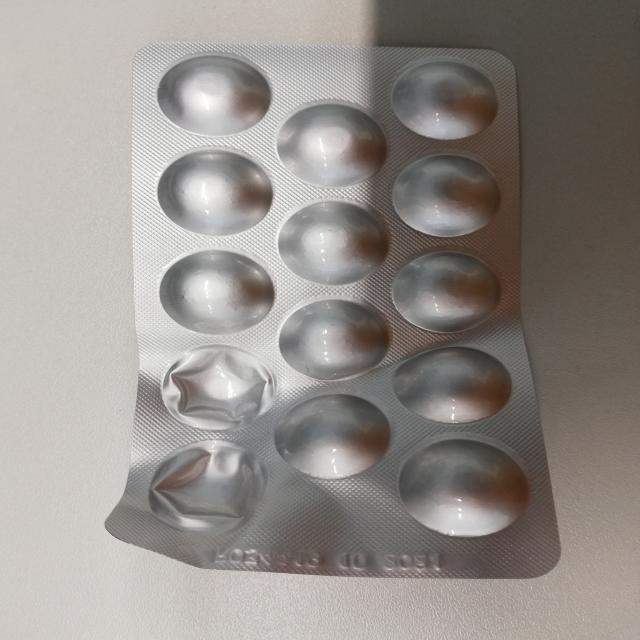Empty: (146, 438, 269, 535), (157, 342, 272, 433)
Pill: (397, 438, 532, 540), (157, 143, 274, 236), (157, 247, 276, 336), (155, 51, 273, 138), (274, 101, 388, 191), (274, 199, 389, 288), (274, 393, 390, 481), (388, 56, 502, 144), (277, 296, 393, 382), (396, 344, 516, 424), (394, 150, 500, 240), (393, 250, 505, 335)
